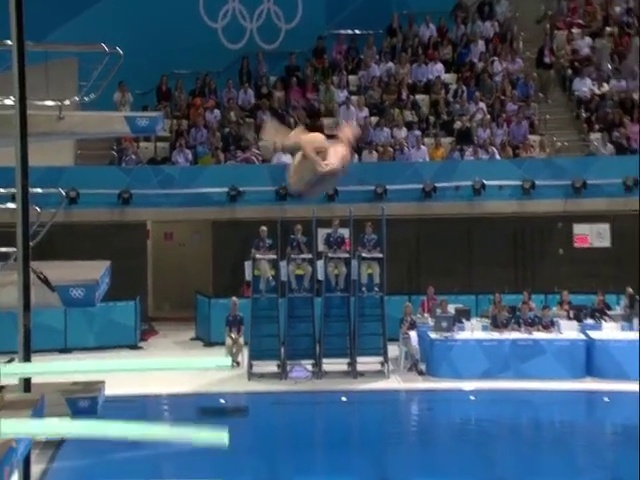diver: (257, 112, 368, 199)
